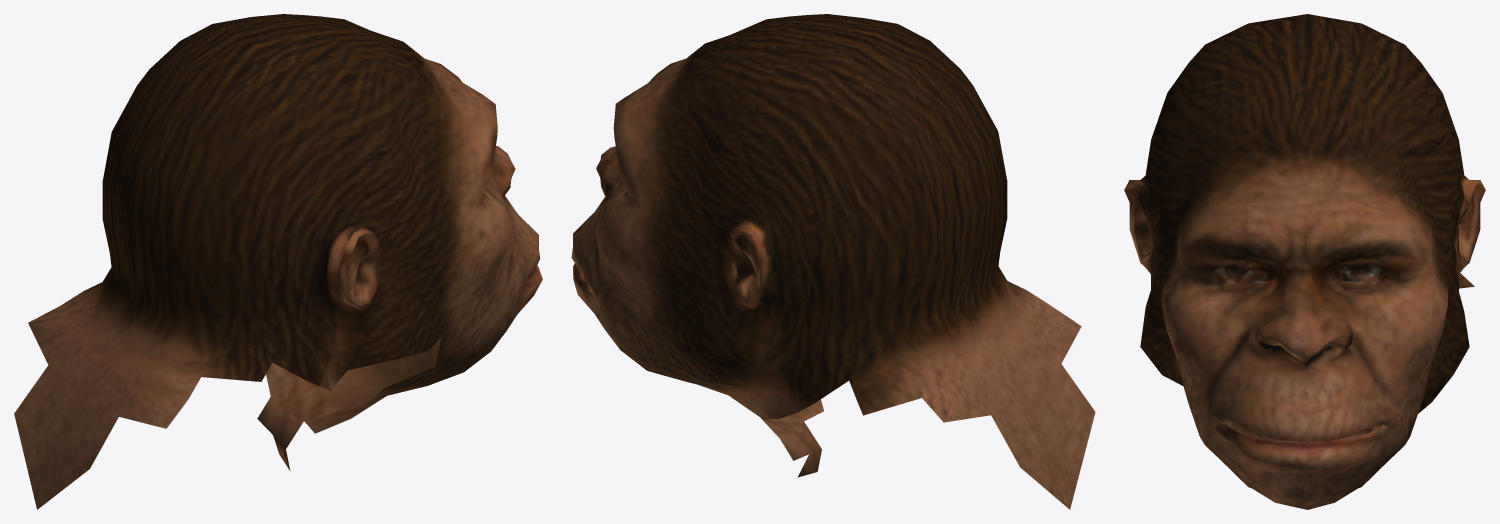
File: meganthropus-kepala.glb
The picture shows the model from 3 angles, left to right: view 1: azimuth 30°, elevation 25°; view 2: azimuth 150°, elevation 25°; view 3: azimuth 270°, elevation 25°; orthographic projection. The views are drawn at different scales.
Visible parts, largest first — view 1: Meganthropus-kepala; view 2: Meganthropus-kepala; view 3: Meganthropus-kepala.
Boxes of the visible parts, left/top/right/bottom form: Meganthropus-kepala: left=14, top=14, right=542, bottom=509; Meganthropus-kepala: left=571, top=14, right=1095, bottom=509; Meganthropus-kepala: left=1124, top=14, right=1485, bottom=509.
Bounding box in the file's own units: 0.2129 × 0.1836 × 0.1309.
Materials: 1 (1 with a texture image).
